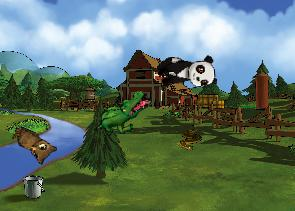crocodile: (91, 79, 154, 148)
owl: (5, 124, 59, 168)
panda: (155, 54, 217, 90)
